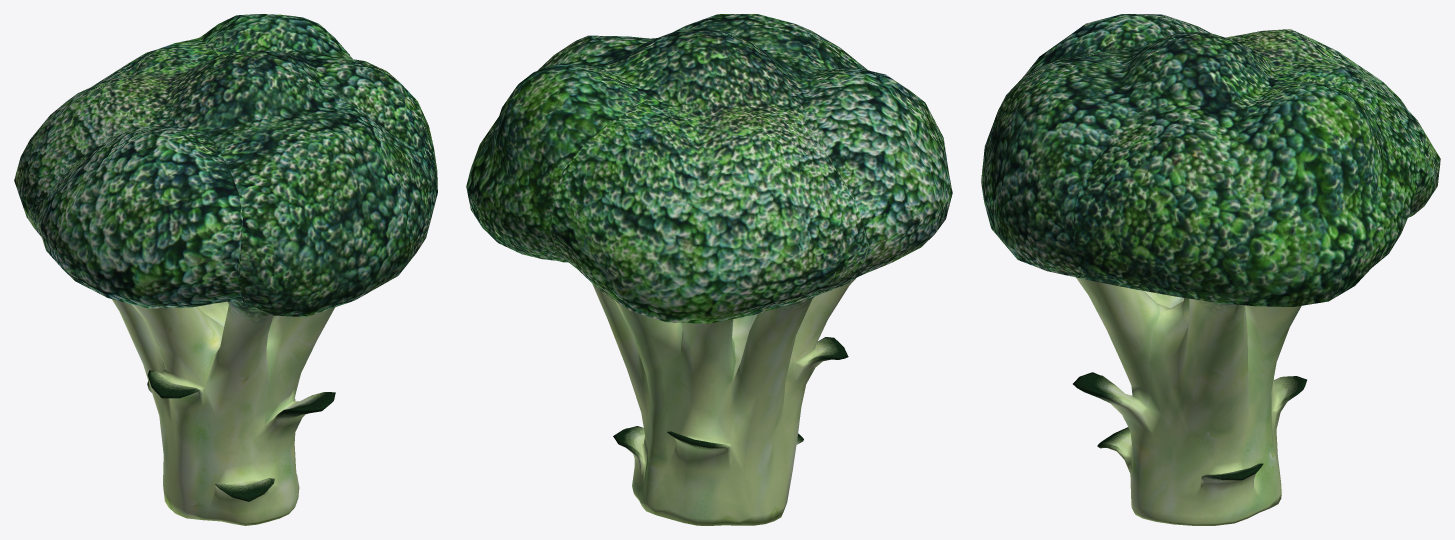
File: XLH.FBX
The picture shows the model from 3 angles, left to right: view 1: azimuth 30°, elevation 25°; view 2: azimuth 150°, elevation 25°; view 3: azimuth 270°, elevation 25°; orthographic projection. The views are drawn at different scales.
Visible parts, largest first — view 1: Broccoli; view 2: Broccoli; view 3: Broccoli.
Part boxes in pixels (<box>): Broccoli: <box>14,14,437,525</box>; Broccoli: <box>466,14,952,525</box>; Broccoli: <box>981,14,1440,525</box>.
Size of the model in its own units: 78.73 by 86.65 by 76.49.
